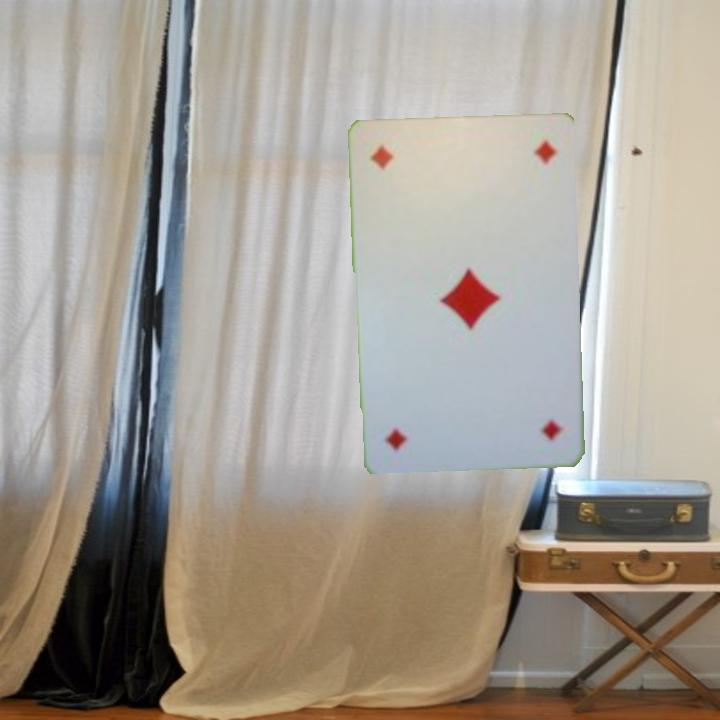d_a.png: (465, 365, 568, 454), (363, 132, 466, 221)
